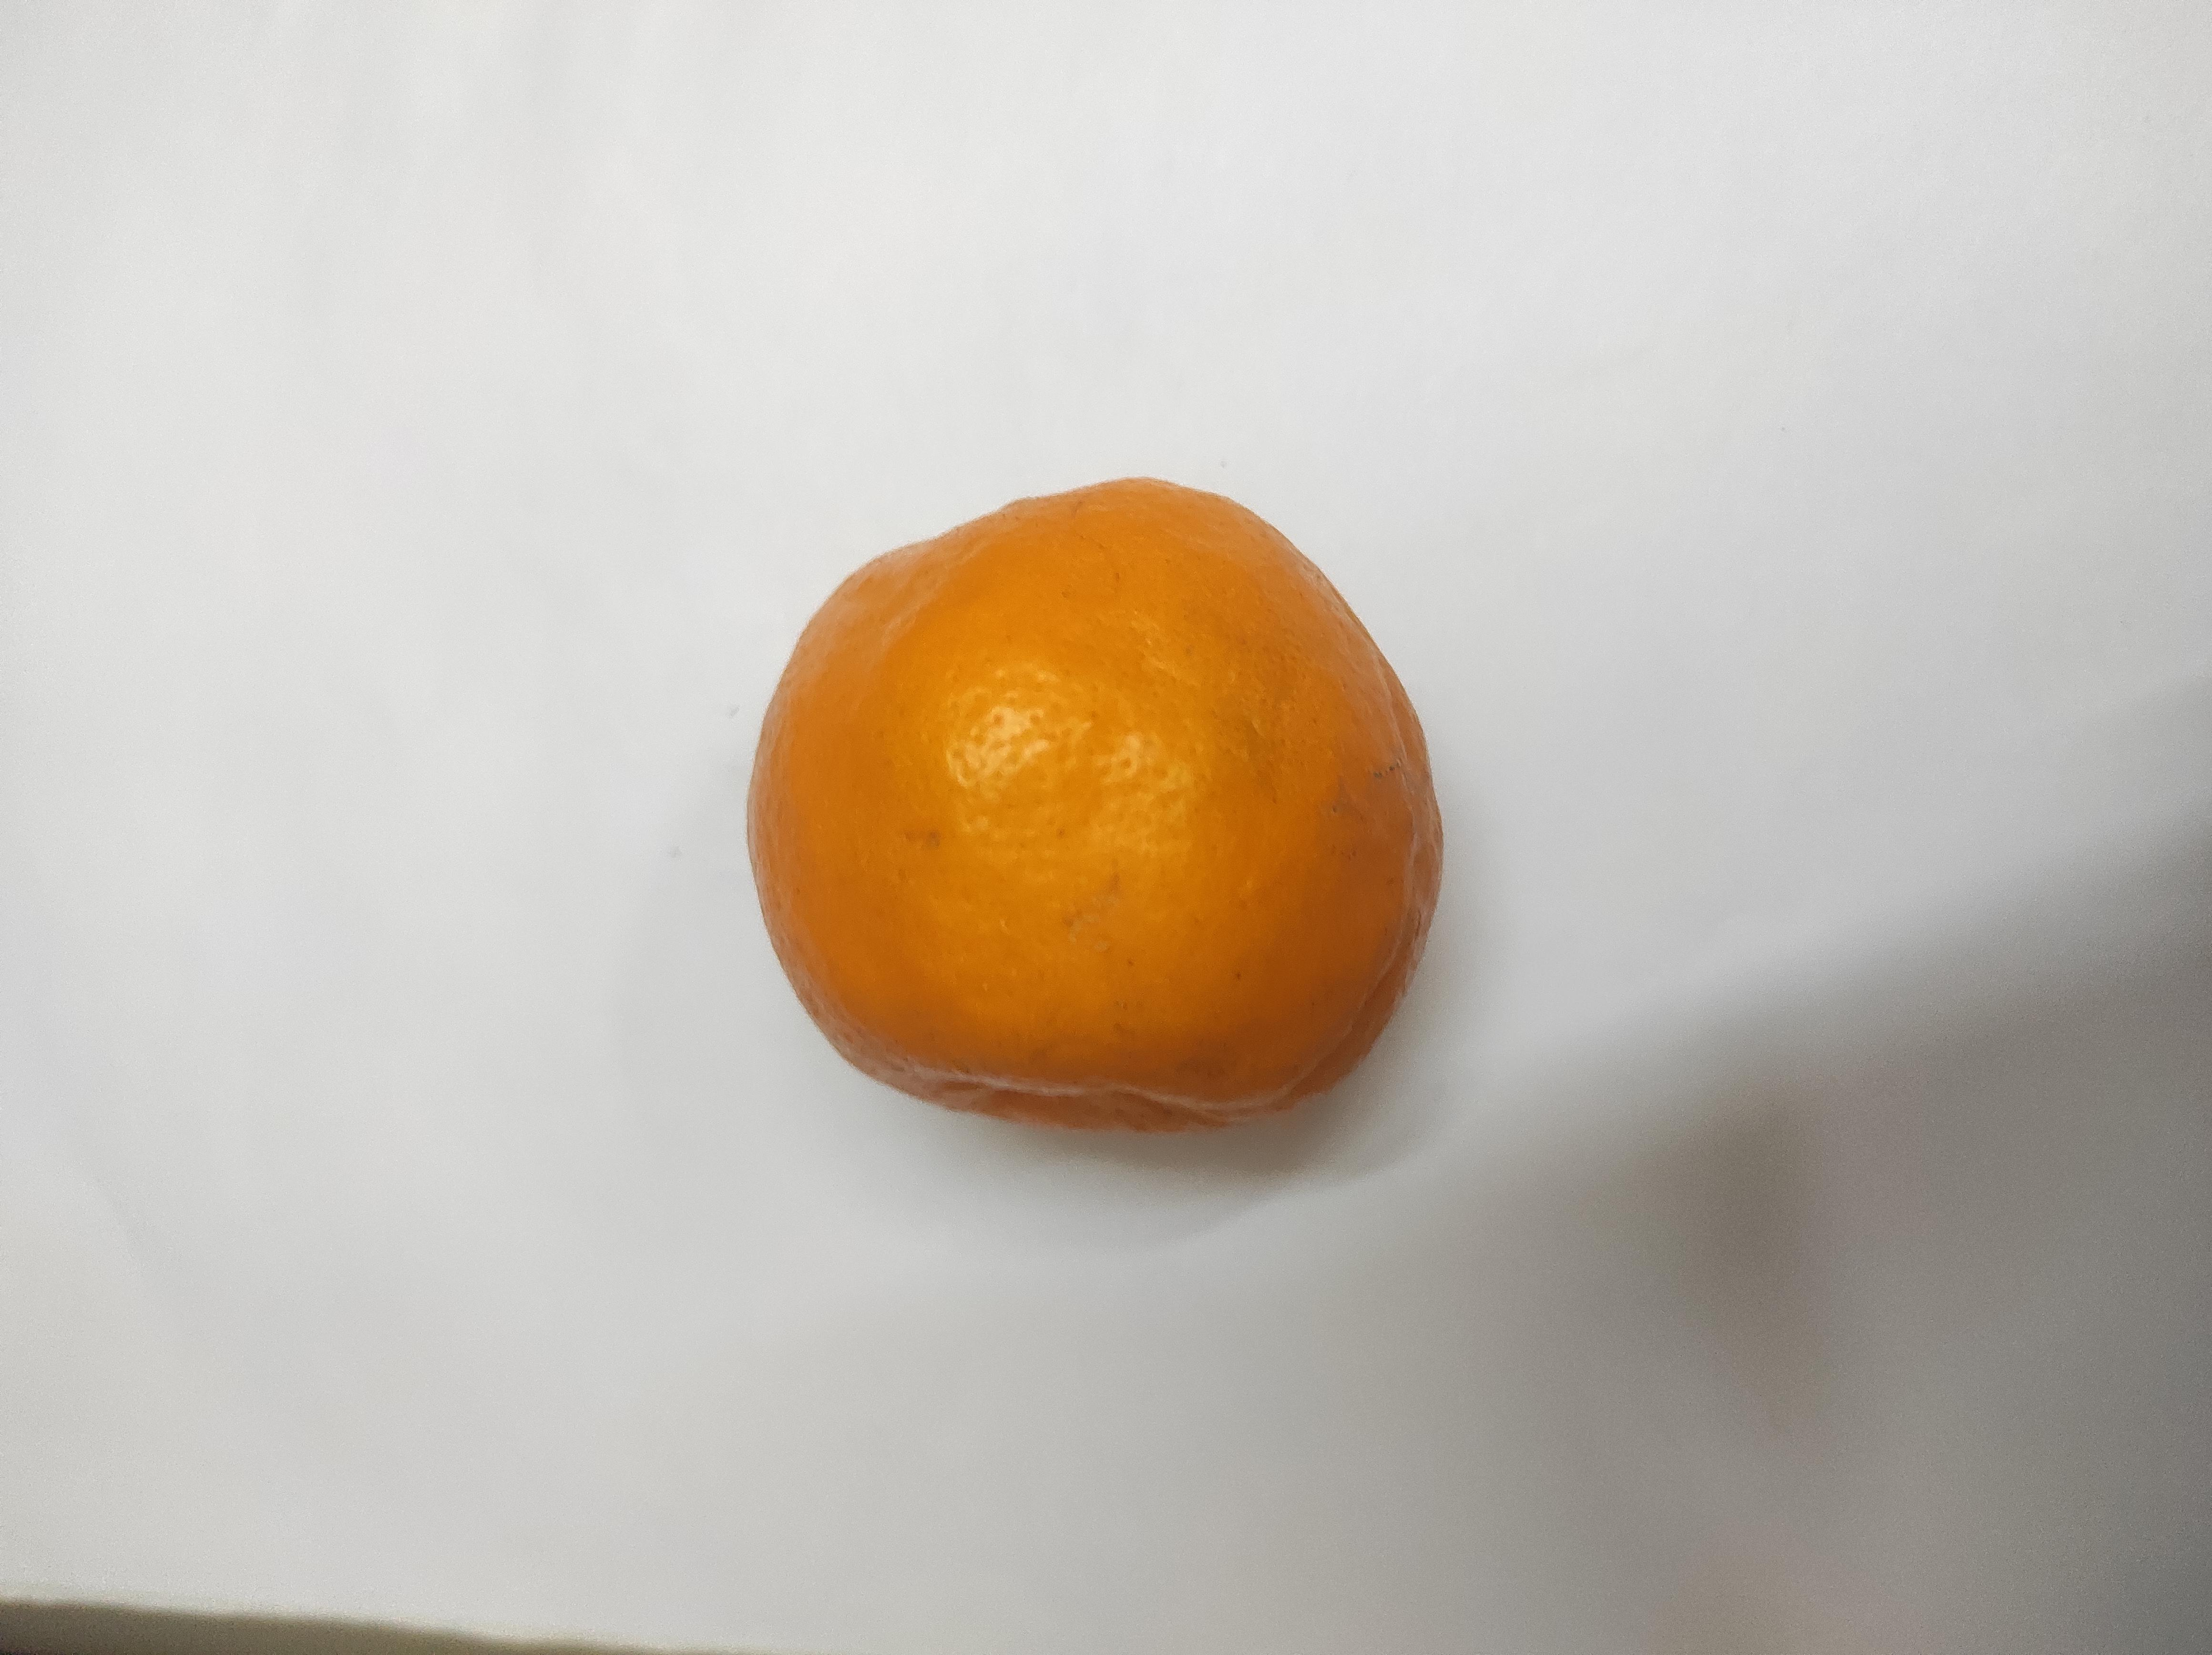Unripe: (748, 449, 1440, 1125)
